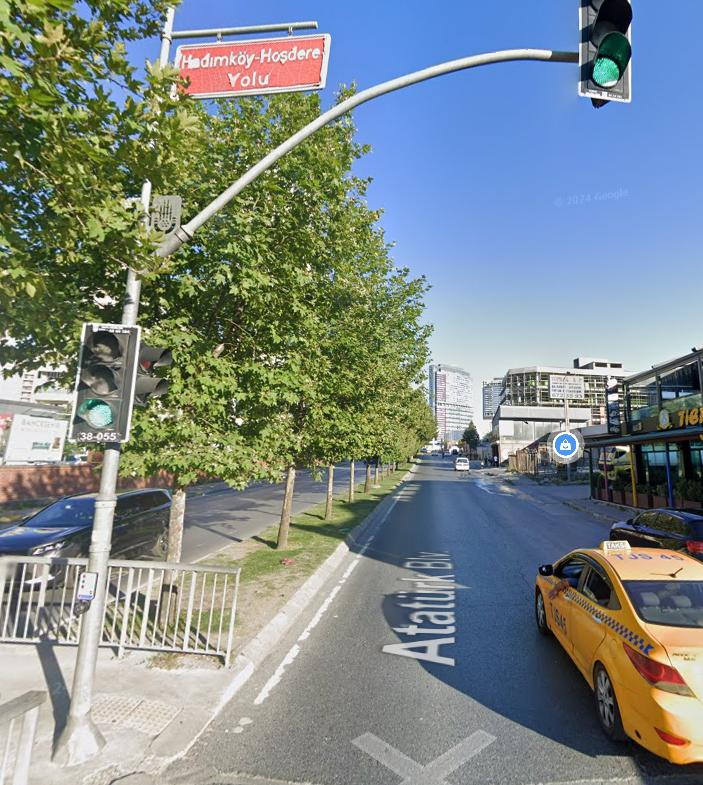greenlight: (73, 321, 131, 446), (581, 0, 633, 99)
